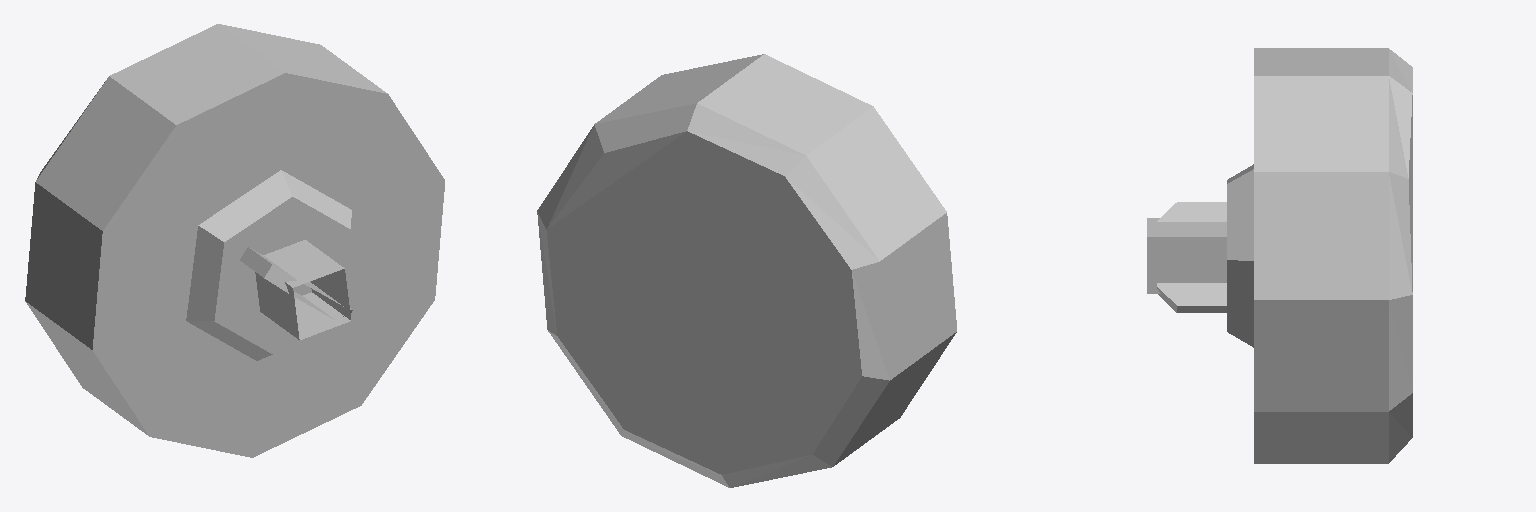
Rendered from wheel64.obj.
The picture shows the model from 3 angles: view 1: azimuth 30°, elevation 25°; view 2: azimuth 150°, elevation 25°; view 3: azimuth 270°, elevation 25°; orthographic projection.
Visible parts, largest first — view 1: wheel_low_textures; view 2: wheel_low_textures; view 3: wheel_low_textures.
Boxes of the visible parts, x1,y1,x2,y2 form: wheel_low_textures: [25, 24, 444, 457]; wheel_low_textures: [537, 54, 956, 487]; wheel_low_textures: [1147, 48, 1412, 463].
Bounding box in the file's own units: 1.52 × 1.55 × 0.9907.